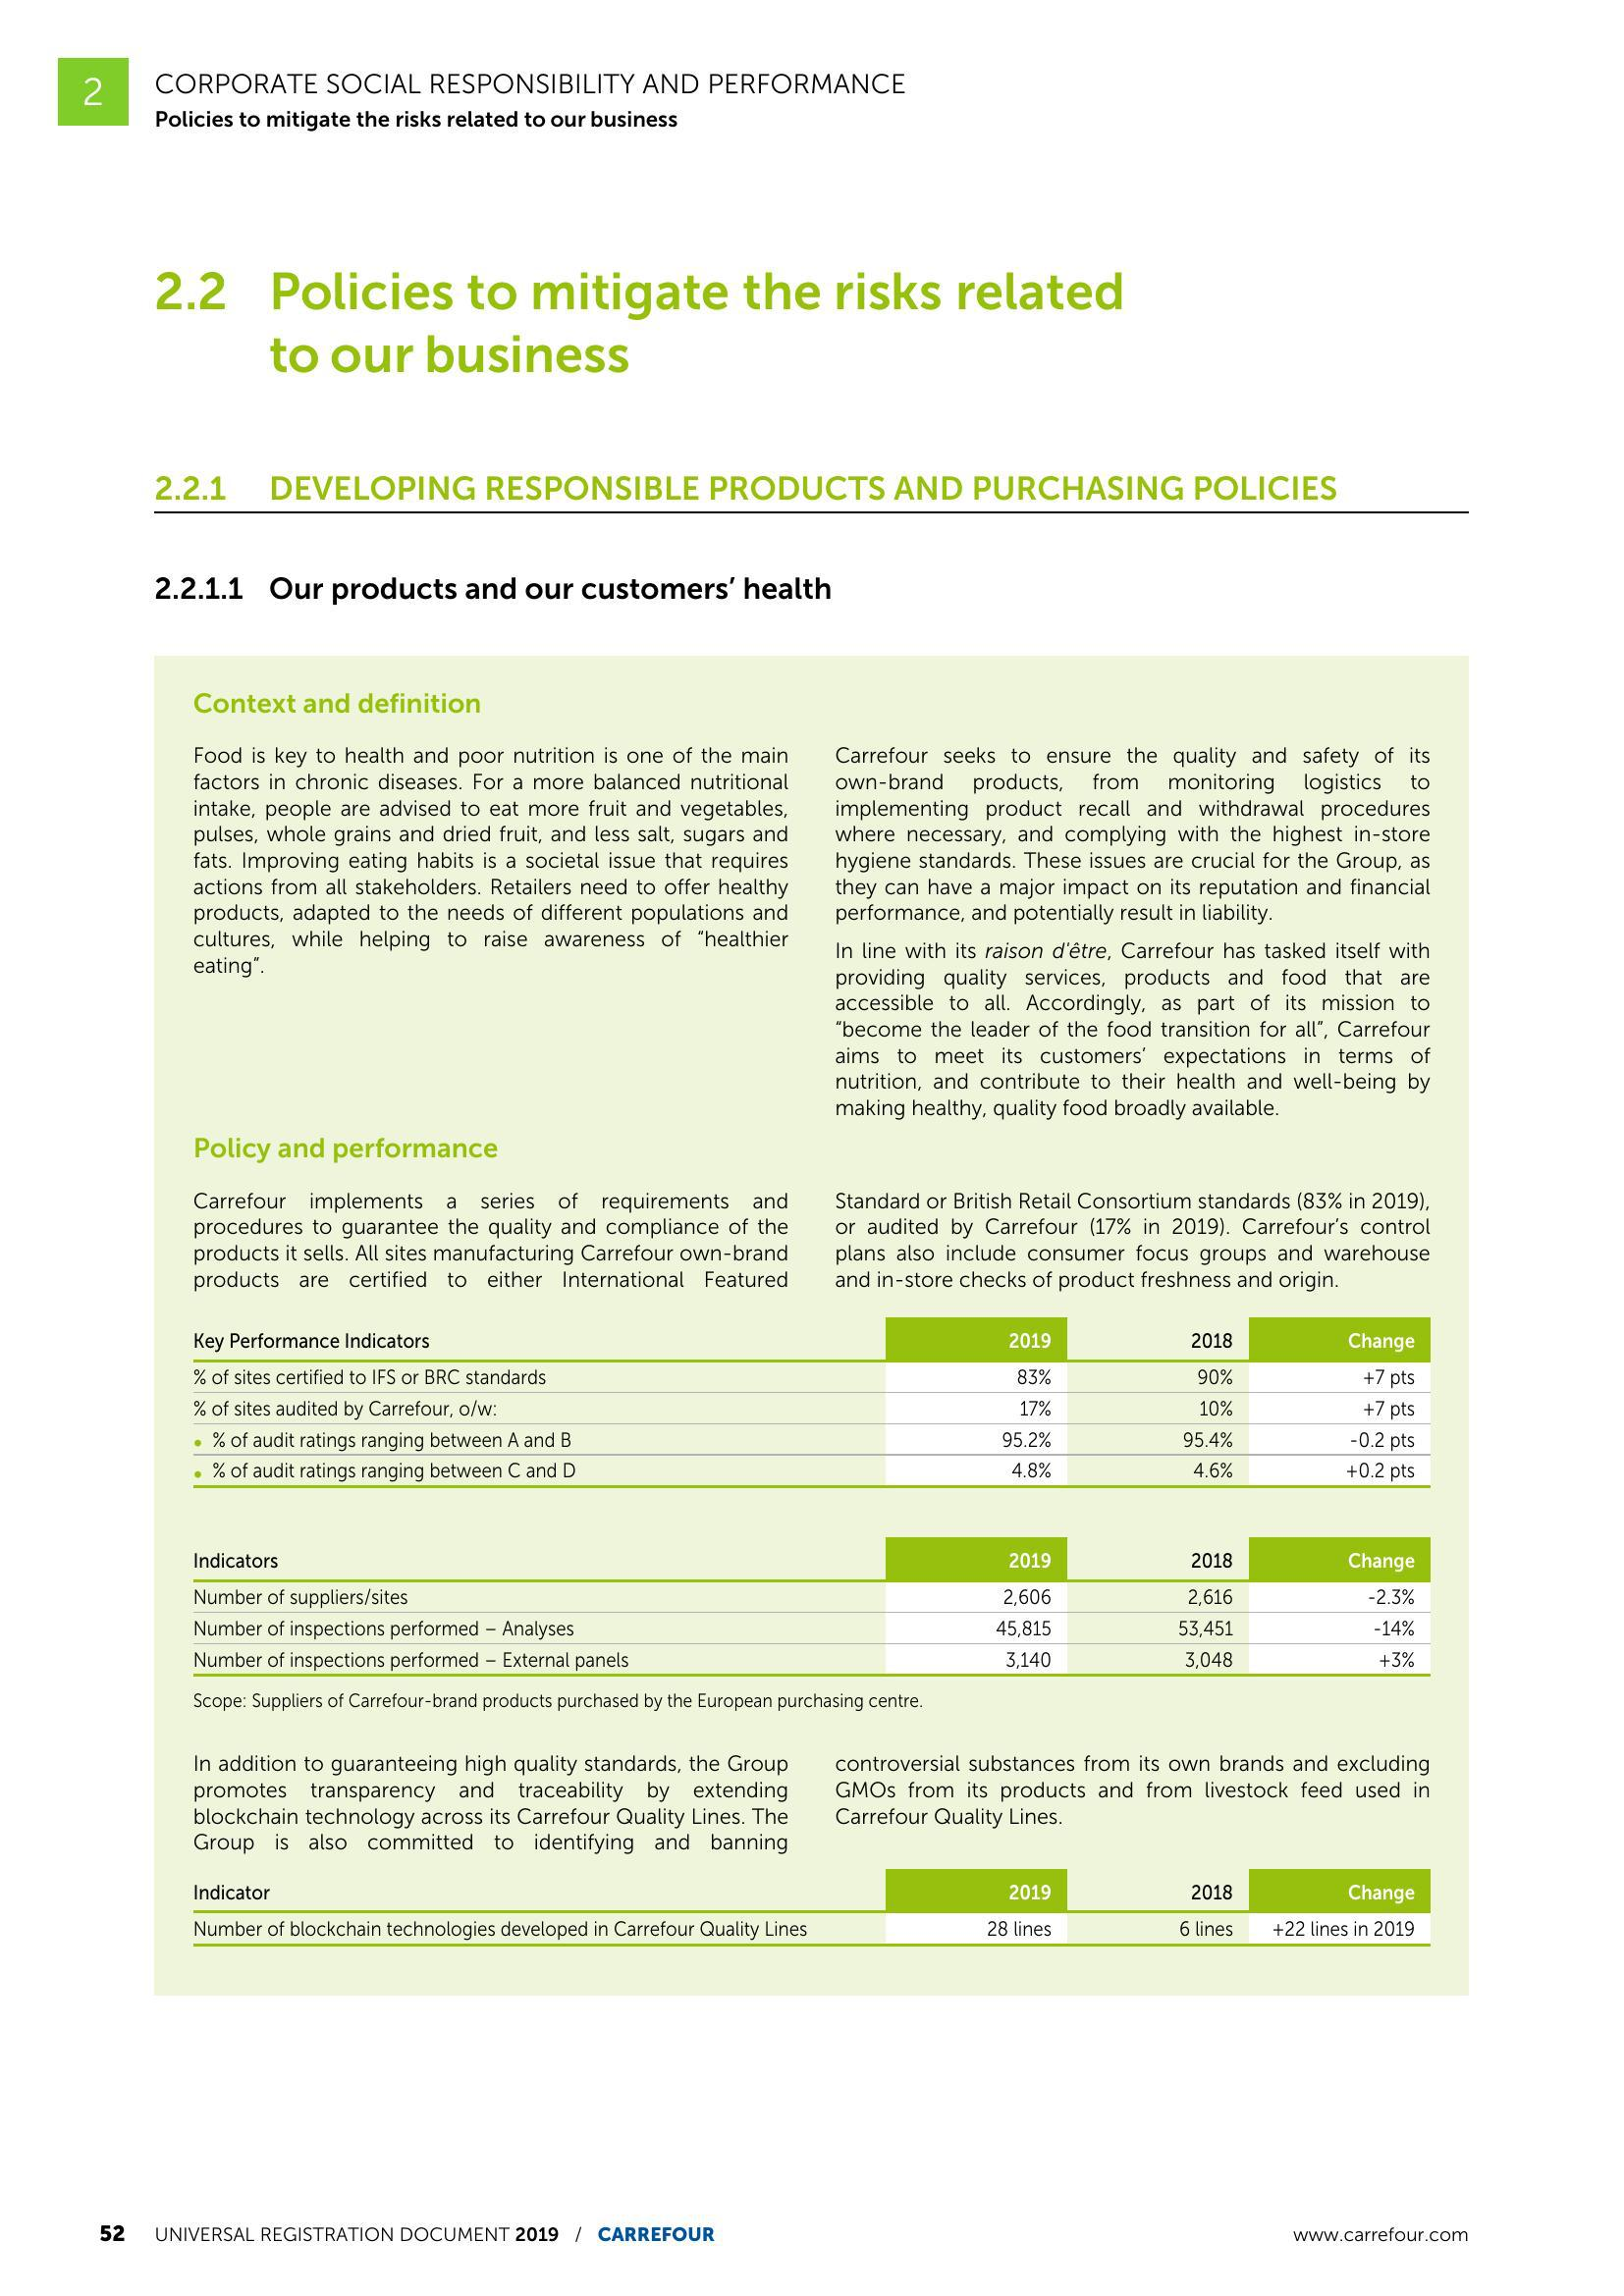cell: (190, 1535, 886, 1581), (188, 1316, 886, 1360), (188, 1360, 886, 1393), (188, 1423, 886, 1456), (190, 1643, 886, 1676), (188, 1456, 886, 1488), (190, 1581, 886, 1613), (188, 1393, 886, 1423), (190, 1613, 886, 1643), (886, 1535, 1072, 1581), (1244, 1535, 1431, 1581), (1244, 1316, 1436, 1360), (886, 1316, 1067, 1360), (1072, 1535, 1244, 1581), (1067, 1316, 1244, 1360), (1244, 1360, 1436, 1393), (1244, 1423, 1436, 1456), (886, 1643, 1072, 1676), (1244, 1643, 1431, 1676), (1244, 1456, 1436, 1488), (886, 1360, 1067, 1393), (886, 1423, 1067, 1456), (1067, 1360, 1244, 1393), (1067, 1423, 1244, 1456), (886, 1581, 1072, 1613), (1244, 1581, 1431, 1613), (1072, 1643, 1244, 1676), (886, 1456, 1067, 1488), (1244, 1393, 1436, 1423), (1067, 1456, 1244, 1488), (886, 1613, 1072, 1643), (1244, 1613, 1431, 1643), (1072, 1581, 1244, 1613), (886, 1393, 1067, 1423), (1067, 1393, 1244, 1423), (1072, 1613, 1244, 1643)
table: (188, 1316, 1436, 1488), (190, 1535, 1431, 1676)
